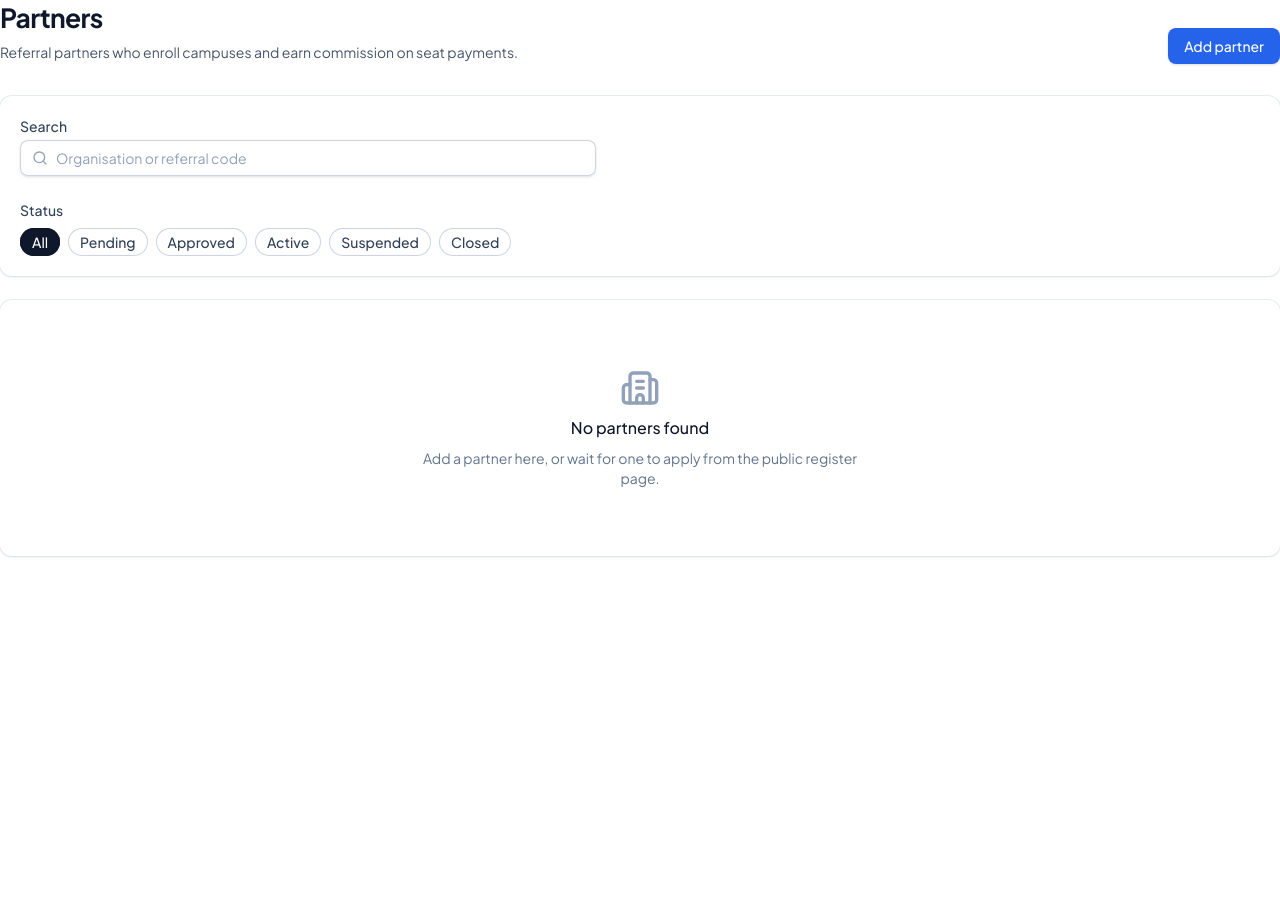
Test case: admin area › creates a partner from the list page
Click the button "Add partner" at (1224, 46), box top-left (1168, 28), bottom-right (1279, 64)
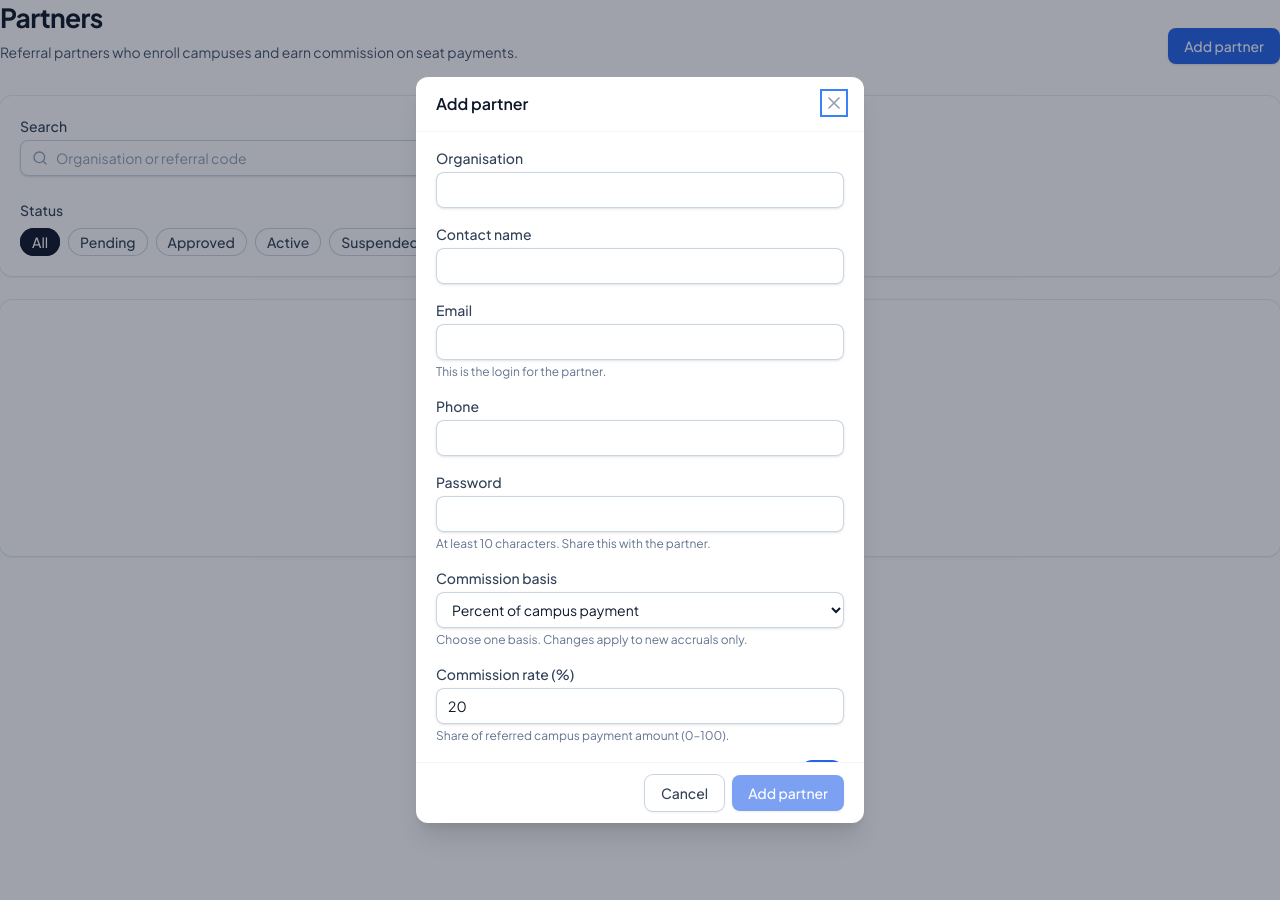
Type "Ally Partners" into the field labelled "Organisation" at (640, 190), box top-left (436, 172), bottom-right (844, 208)
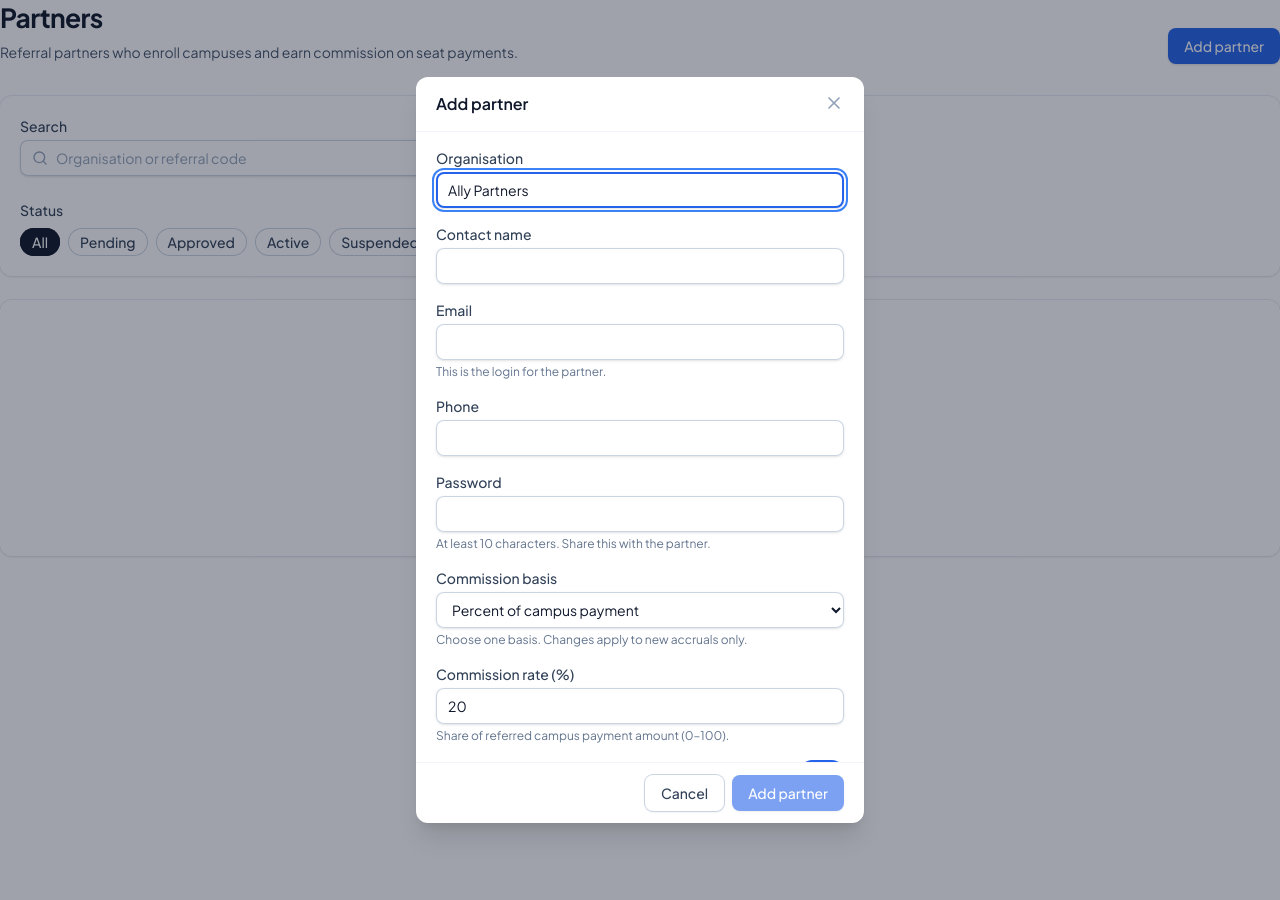
Type "ally@example.com" into the field labelled "Email" at (640, 342), box top-left (436, 324), bottom-right (844, 360)
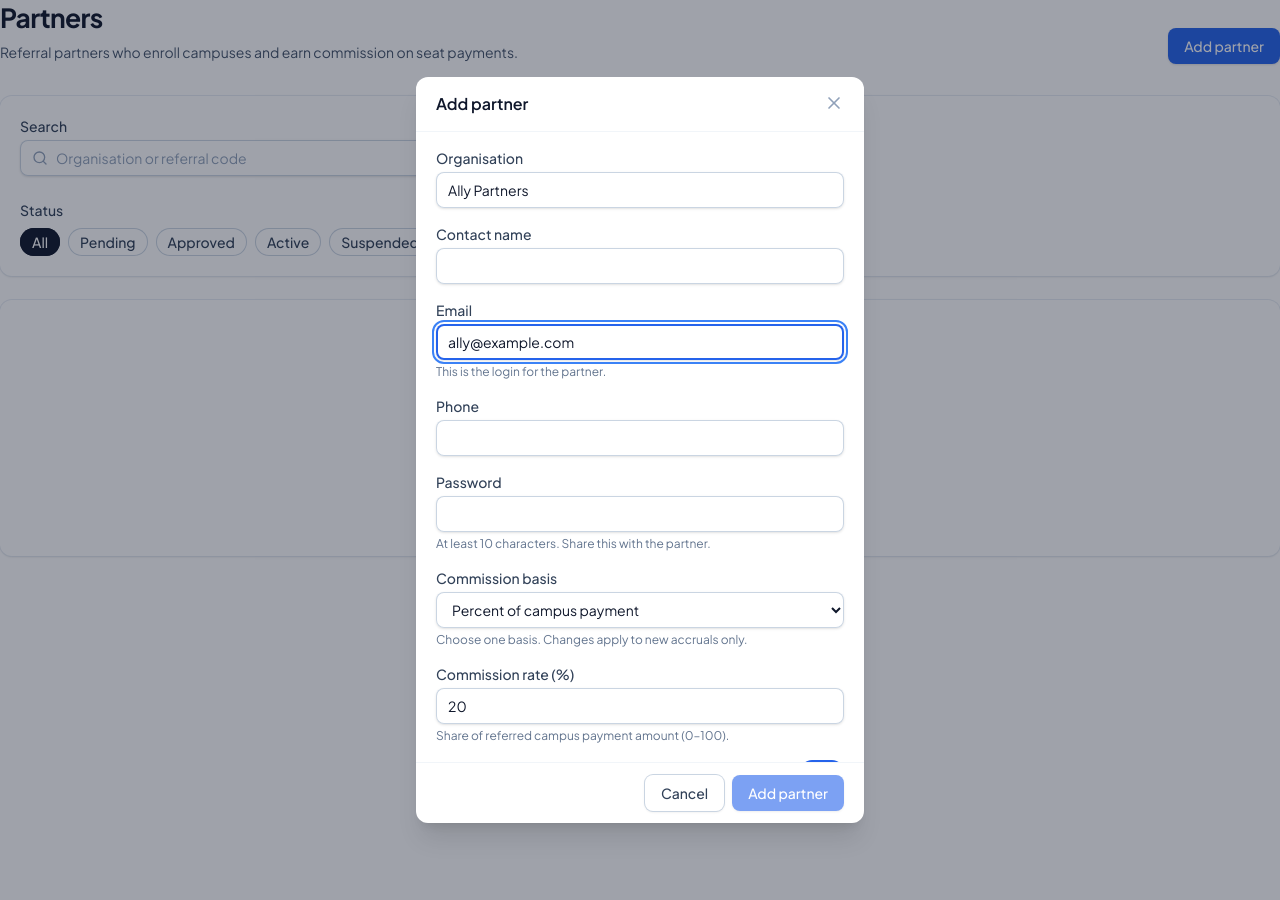
Type "correct horse battery" into the password field labelled "Password" at (640, 514), box top-left (436, 496), bottom-right (844, 532)
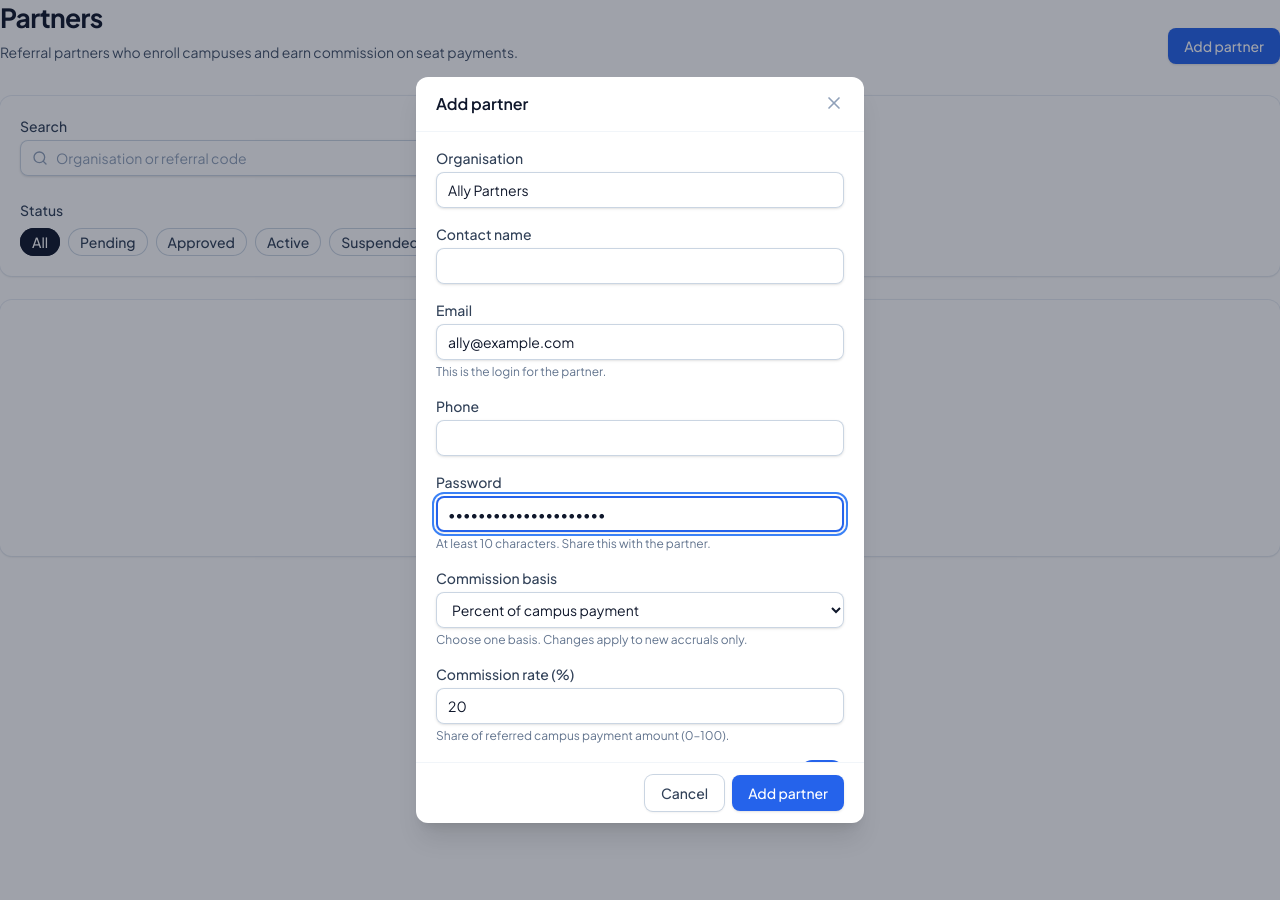
Click the button "Add partner" at (788, 793), box top-left (732, 775), bottom-right (844, 811)
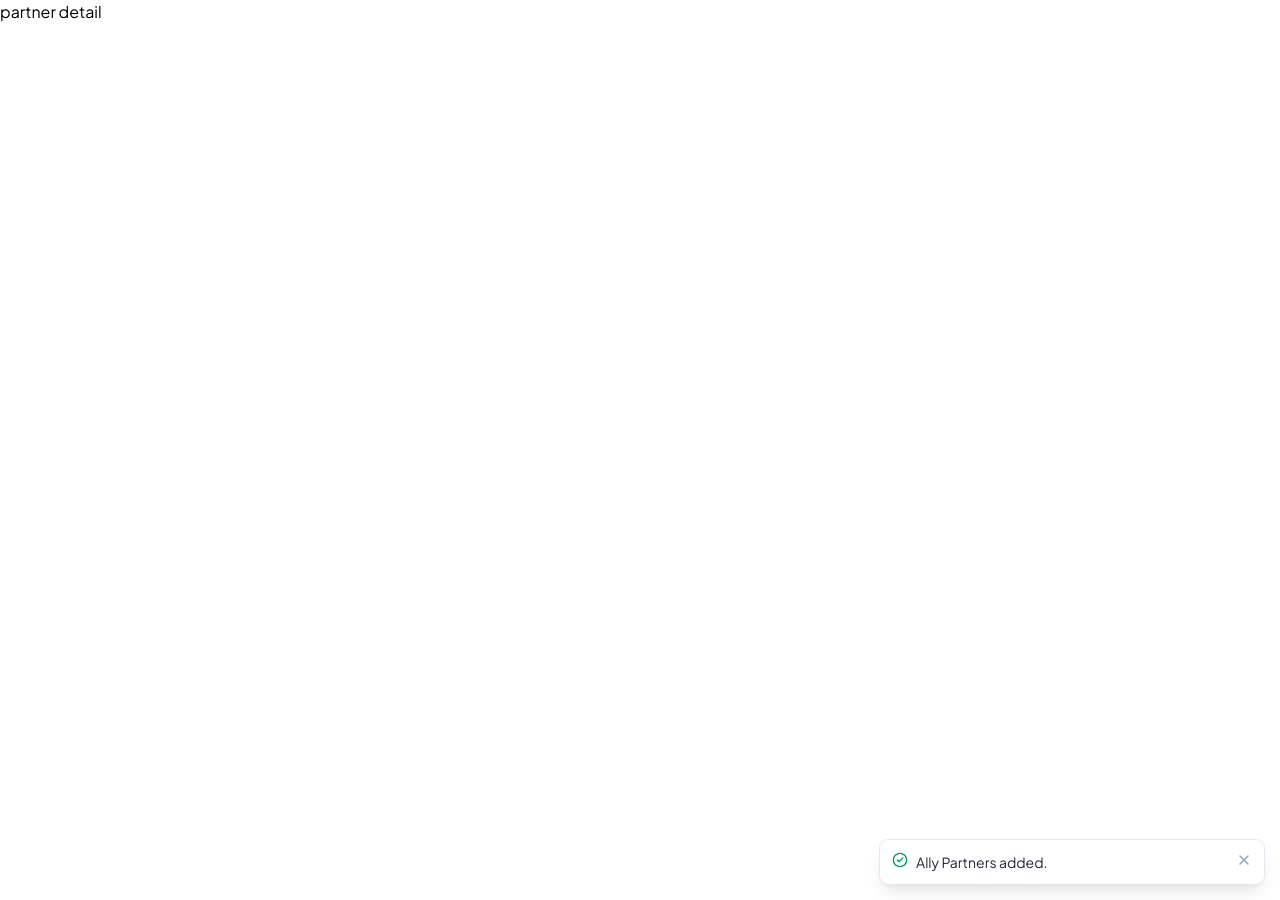
Expected: the text "partner detail" is shown, top-left (0, 1), bottom-right (102, 22)
